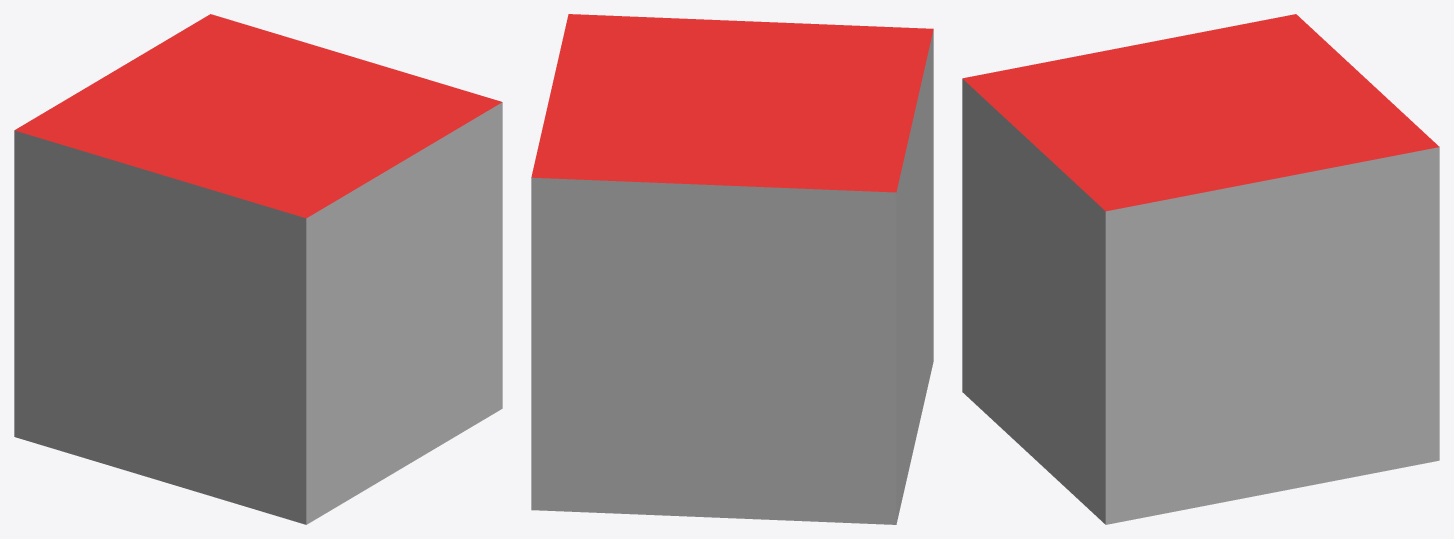
The picture shows the model from 3 angles, left to right: view 1: azimuth 30°, elevation 25°; view 2: azimuth 150°, elevation 25°; view 3: azimuth 270°, elevation 25°; orthographic projection. The views are drawn at different scales.
Size of the model in its own units: 17.55 by 17.94 by 13.
